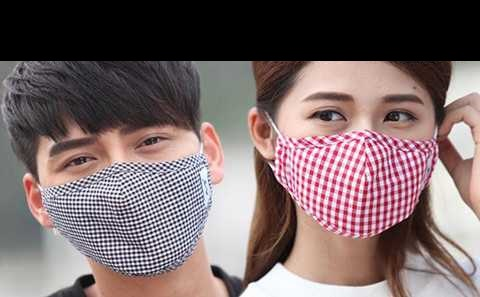face_mask: (41, 98, 207, 278), (277, 58, 439, 236)
